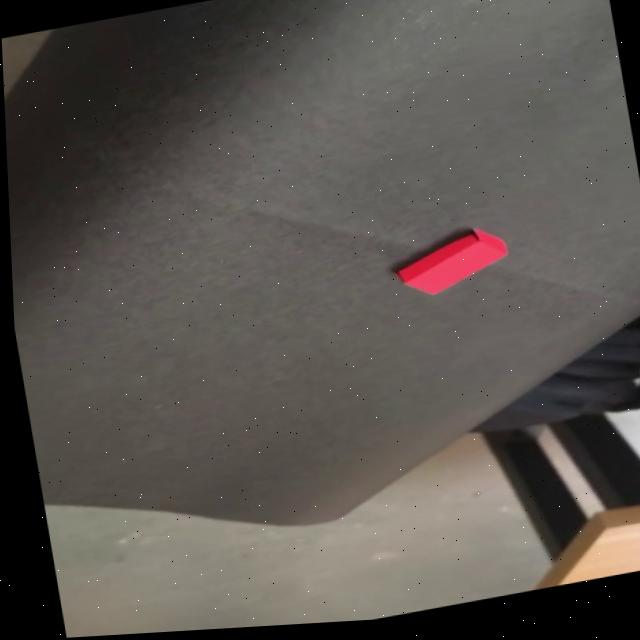red block: (387, 221, 512, 302)
